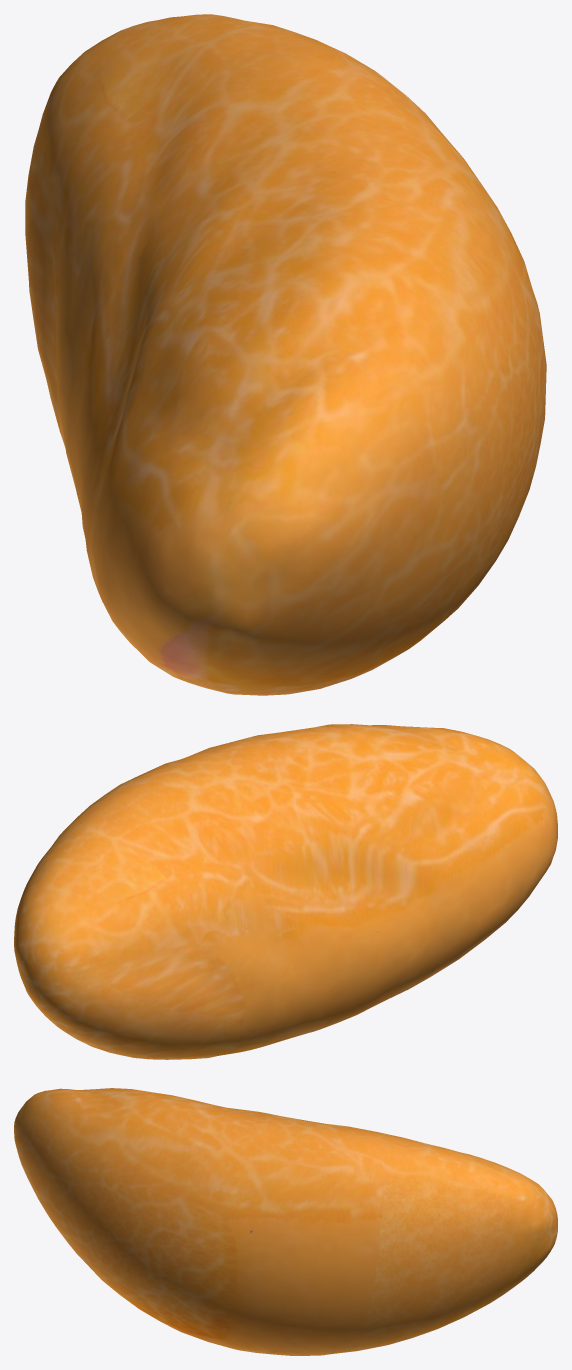
File: Mandarin_Segment.fbx
3 renders of one model, top to bottom at view 1: azimuth 30°, elevation 25°; view 2: azimuth 150°, elevation 25°; view 3: azimuth 270°, elevation 25°, orthographic. The views are drawn at different scales.
Visible parts, largest first — view 1: Mandarin_Segment; view 2: Mandarin_Segment; view 3: Mandarin_Segment.
Boxes of the visible parts, box(x1,y1,x2,y2) form: Mandarin_Segment: box(25, 14, 546, 695); Mandarin_Segment: box(14, 724, 557, 1059); Mandarin_Segment: box(14, 1088, 557, 1355).
Bounding box in the file's own units: 0.035 × 0.0272 × 0.057.
1 material, 1 textured.
